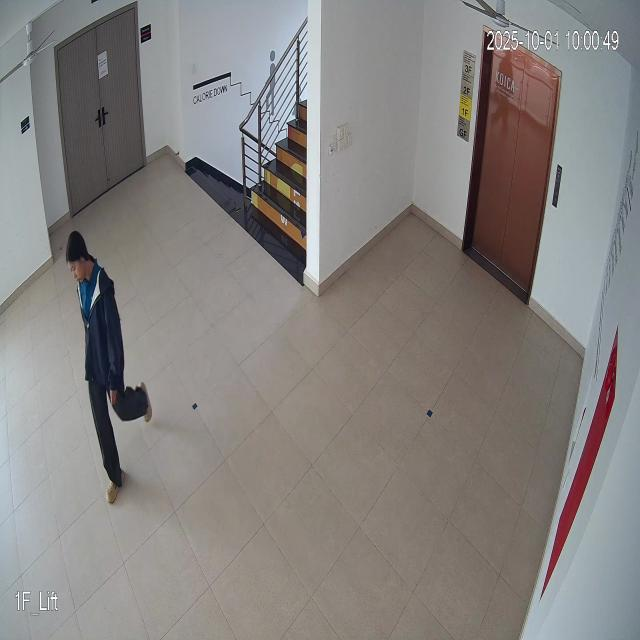face: (64, 229, 92, 288)
